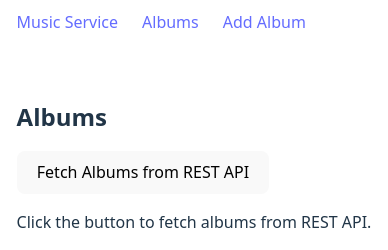
Scenario: Albums List › shows error when fetch fails
Click the button "Fetch Albums from REST API": (144, 173) [17,151,270,194]
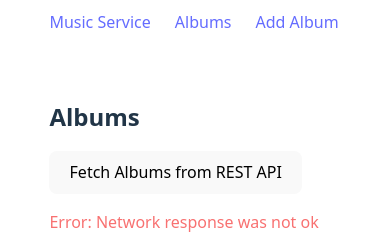
Check: the text "Error:" is shown, box [49,211,318,233]
